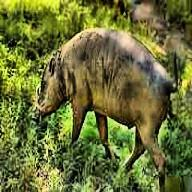boar: (32, 27, 178, 191)
